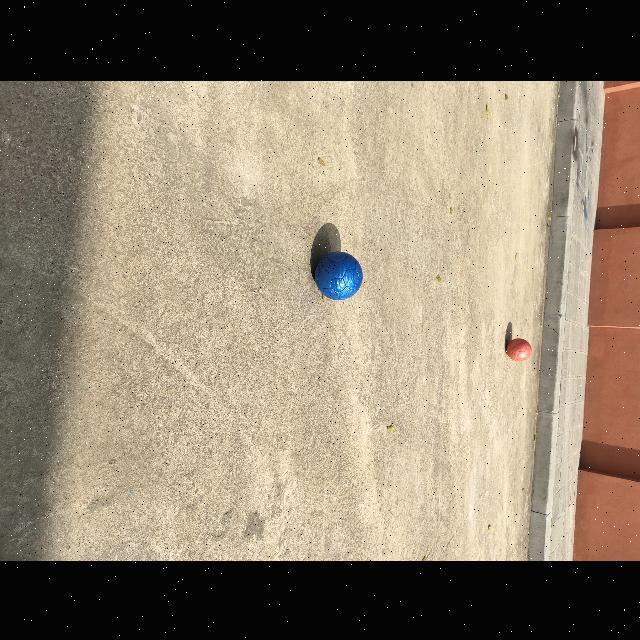B: (314, 250, 363, 299)
R: (506, 338, 532, 360)
